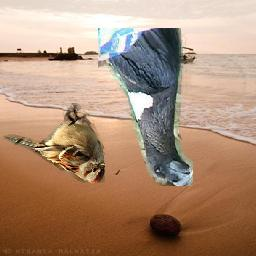Crow: (99, 28, 194, 186)
Sparrow: (3, 103, 105, 183)
